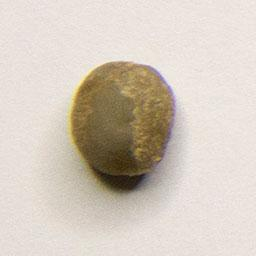peaberry: (66, 57, 180, 180)
